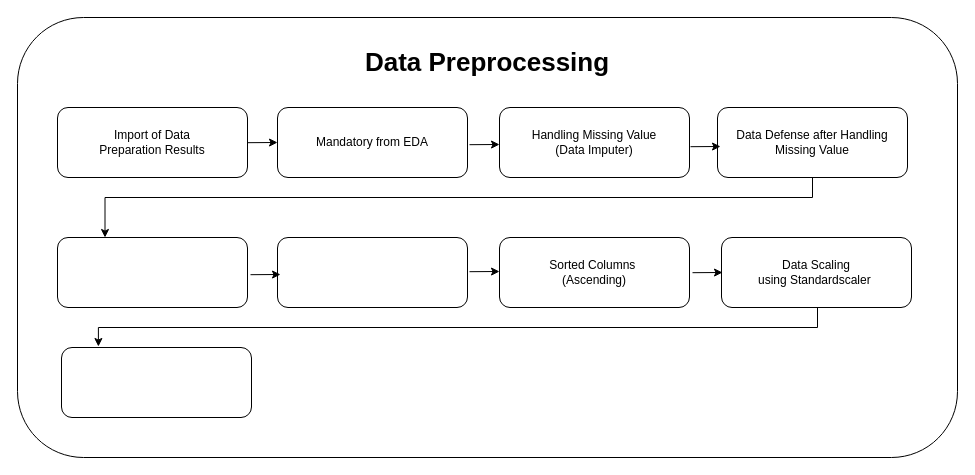
This 975x475 diagram has some shape labels left out. The shapes that lost their labels are listed below. From the top down, each one's centre as x and y in pixels, then its label:
the point at 152,272: Endocing Categorical Column using Get Dummies
the point at 372,272: Balancing Target Data using SMOTE
the point at 156,382: Save Data
